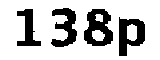1: (13, 6, 43, 52)
3: (48, 5, 79, 50)
8: (83, 5, 114, 50)
p: (115, 15, 147, 60)
